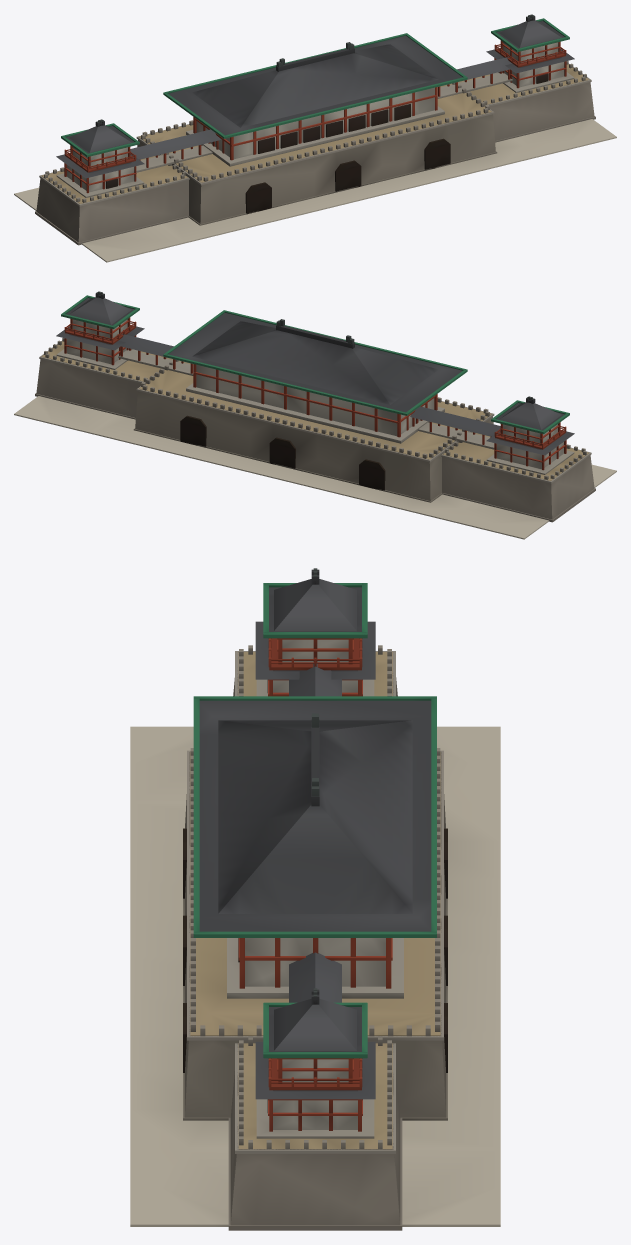
File: chengtianmen.glb
3 views of the same model, one above another, from view 1: azimuth 30°, elevation 25°; view 2: azimuth 150°, elevation 25°; view 3: azimuth 270°, elevation 25° (orthographic). The views are drawn at different scales.
Visible parts, largest first — view 1: p0_gates, p2_roofs, p1_halls; view 2: p0_gates, p2_roofs, p1_halls; view 3: p0_gates, p2_roofs, p1_halls.
Boxes of the visible parts, x1,y1,x2,y2 form: p0_gates: (14, 61, 616, 262); p2_roofs: (56, 14, 574, 178); p1_halls: (56, 40, 574, 197); p0_gates: (14, 338, 616, 539); p2_roofs: (56, 291, 574, 455); p1_halls: (56, 317, 574, 474); p0_gates: (130, 645, 500, 1230); p2_roofs: (193, 568, 436, 1099); p1_halls: (227, 638, 403, 1138).
Bounding box in the file's own units: 142 × 30.22 × 44.
